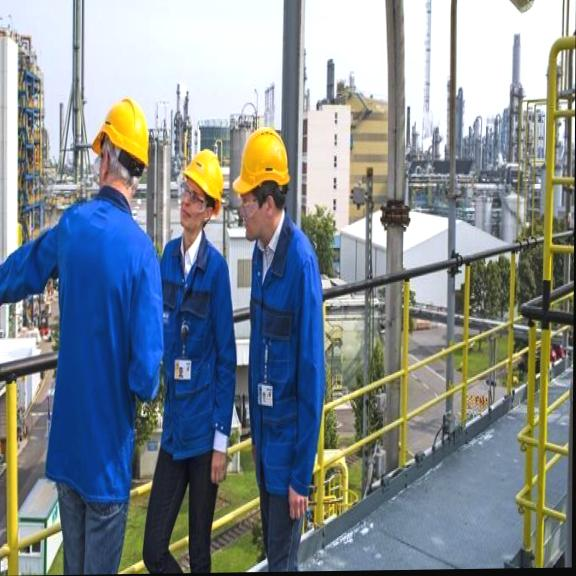no_safety_vest: (39, 199, 145, 508), (241, 218, 324, 489), (158, 228, 227, 462)
